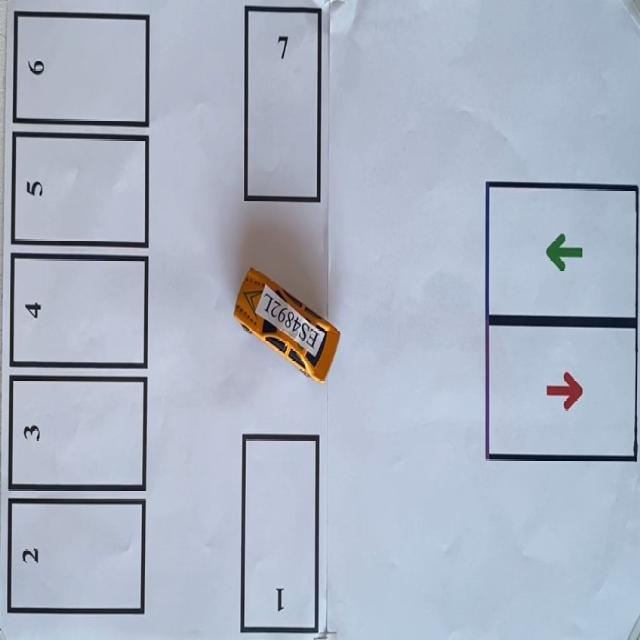car: (234, 268, 340, 382)
